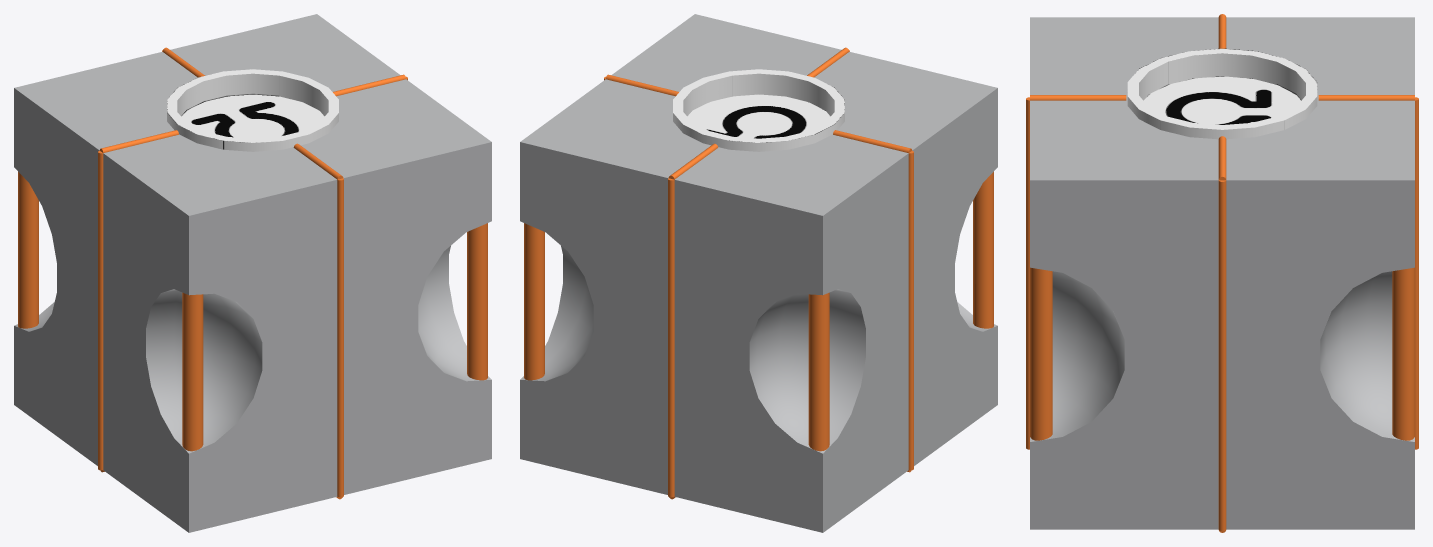
Rendered from Cubo Linkeado.FBX.
The picture shows the model from 3 angles, left to right: view 1: azimuth 30°, elevation 25°; view 2: azimuth 150°, elevation 25°; view 3: azimuth 270°, elevation 25°; orthographic projection. The views are drawn at different scales.
Parts seen in each view (by area): view 1: Box001, Cylinder021, Cylinder004, Cylinder002, Cylinder003, Cylinder007, Cylinder006; view 2: Box001, Cylinder021, Cylinder003, Cylinder001, Cylinder004, Cylinder010, Cylinder006; view 3: Box001, Cylinder021, Cylinder001, Cylinder002, Cylinder005, Cylinder007, Cylinder010, Cylinder013, Cylinder014.
Boxes of the visible parts, left/top/right/bottom form: Box001: left=14, top=14, right=491, bottom=532; Cylinder021: left=167, top=69, right=338, bottom=151; Cylinder004: left=182, top=292, right=203, bottom=451; Cylinder002: left=467, top=223, right=487, bottom=380; Cylinder003: left=18, top=171, right=38, bottom=328; Cylinder007: left=337, top=178, right=343, bottom=497; Cylinder006: left=98, top=150, right=103, bottom=470; Box001: left=520, top=14, right=997, bottom=532; Cylinder021: left=673, top=69, right=844, bottom=151; Cylinder003: left=808, top=292, right=829, bottom=451; Cylinder001: left=524, top=223, right=544, bottom=380; Cylinder004: left=973, top=171, right=993, bottom=328; Cylinder010: left=668, top=178, right=674, bottom=497; Cylinder006: left=908, top=150, right=913, bottom=470; Box001: left=1030, top=17, right=1414, bottom=529; Cylinder021: left=1127, top=48, right=1317, bottom=139; Cylinder001: left=1392, top=267, right=1414, bottom=440; Cylinder002: left=1030, top=267, right=1052, bottom=440; Cylinder005: left=1218, top=180, right=1226, bottom=530; Cylinder007: left=1026, top=97, right=1029, bottom=449; Cylinder010: left=1415, top=97, right=1418, bottom=449; Cylinder013: left=1030, top=95, right=1126, bottom=100; Cylinder014: left=1318, top=95, right=1414, bottom=100.
Size of the model in its own units: 102 by 106 by 102.
19 materials, 19 textured.
